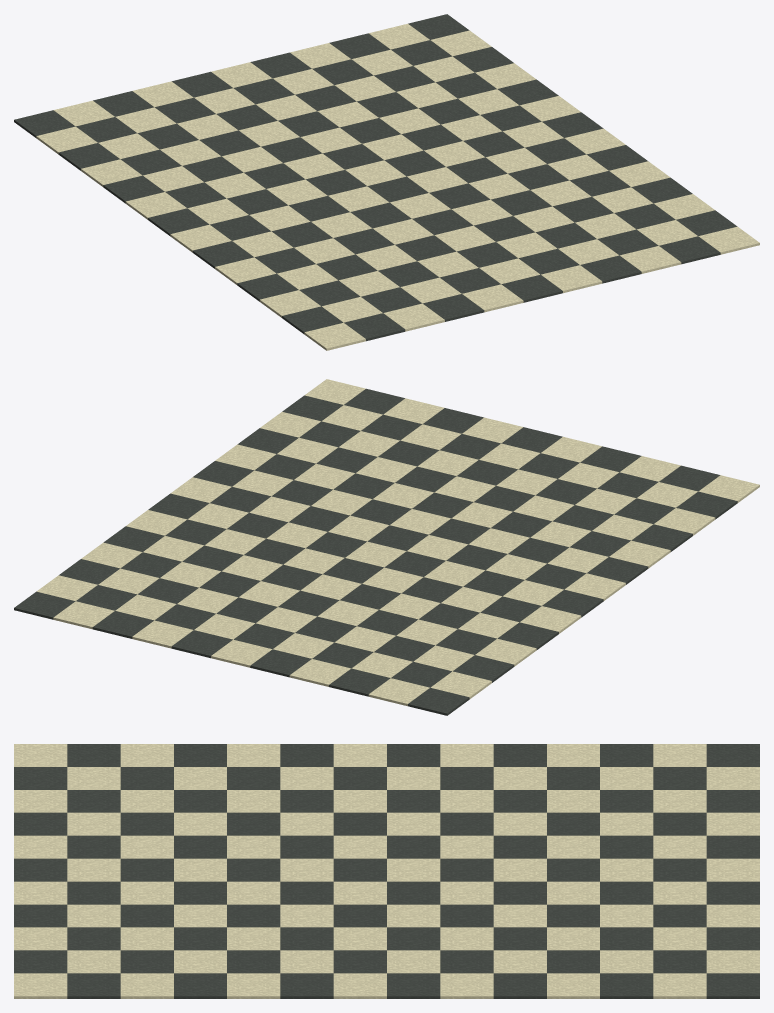
File: alfombra-shaggy-cuadros-verde-200x250.glb
3 views of the same model, one above another, from view 1: azimuth 30°, elevation 25°; view 2: azimuth 150°, elevation 25°; view 3: azimuth 270°, elevation 25° (orthographic). The views are drawn at different scales.
Visible parts, largest first — view 1: alfombra-shaggy-cuadros-verde; view 2: alfombra-shaggy-cuadros-verde; view 3: alfombra-shaggy-cuadros-verde.
Boxes of the visible parts, x1,y1,x2,y2 form: alfombra-shaggy-cuadros-verde: (14,14,759,350); alfombra-shaggy-cuadros-verde: (14,379,759,715); alfombra-shaggy-cuadros-verde: (14,744,759,998).
Size of the model in its own units: 2 by 0.01 by 2.5.
2 materials, 2 textured.
